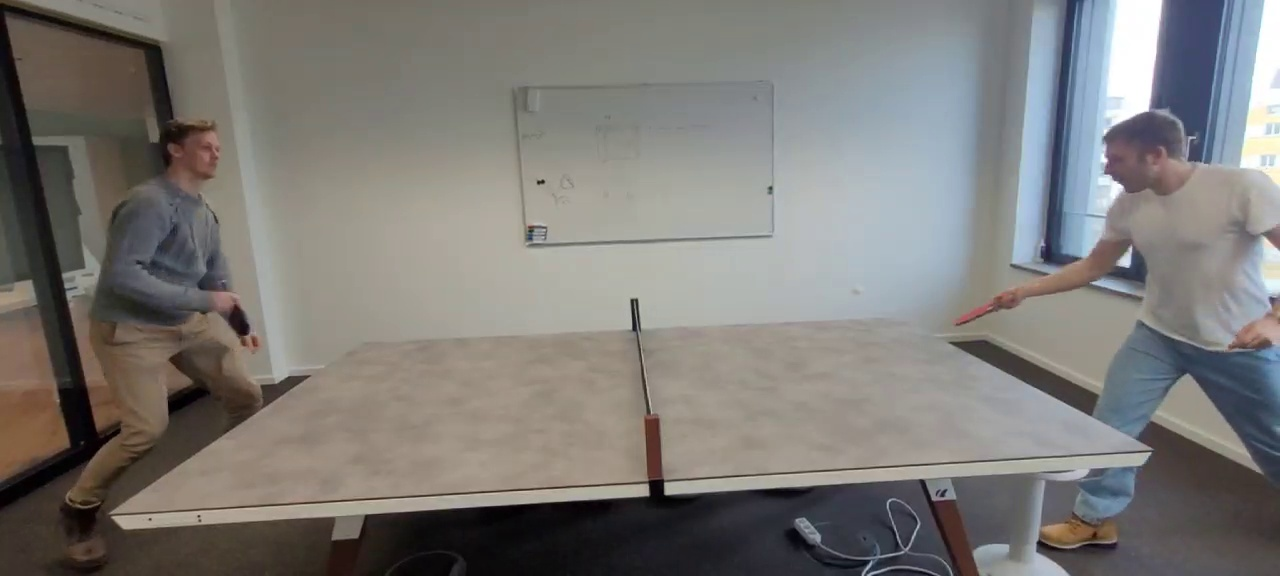1: (953, 296, 1013, 325), (228, 304, 250, 336)
2: (851, 284, 863, 294)
ttplatte: (110, 317, 1151, 514)
